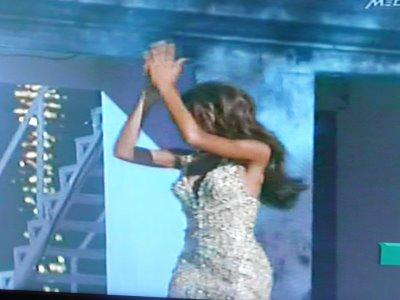person: (112, 37, 286, 300)
